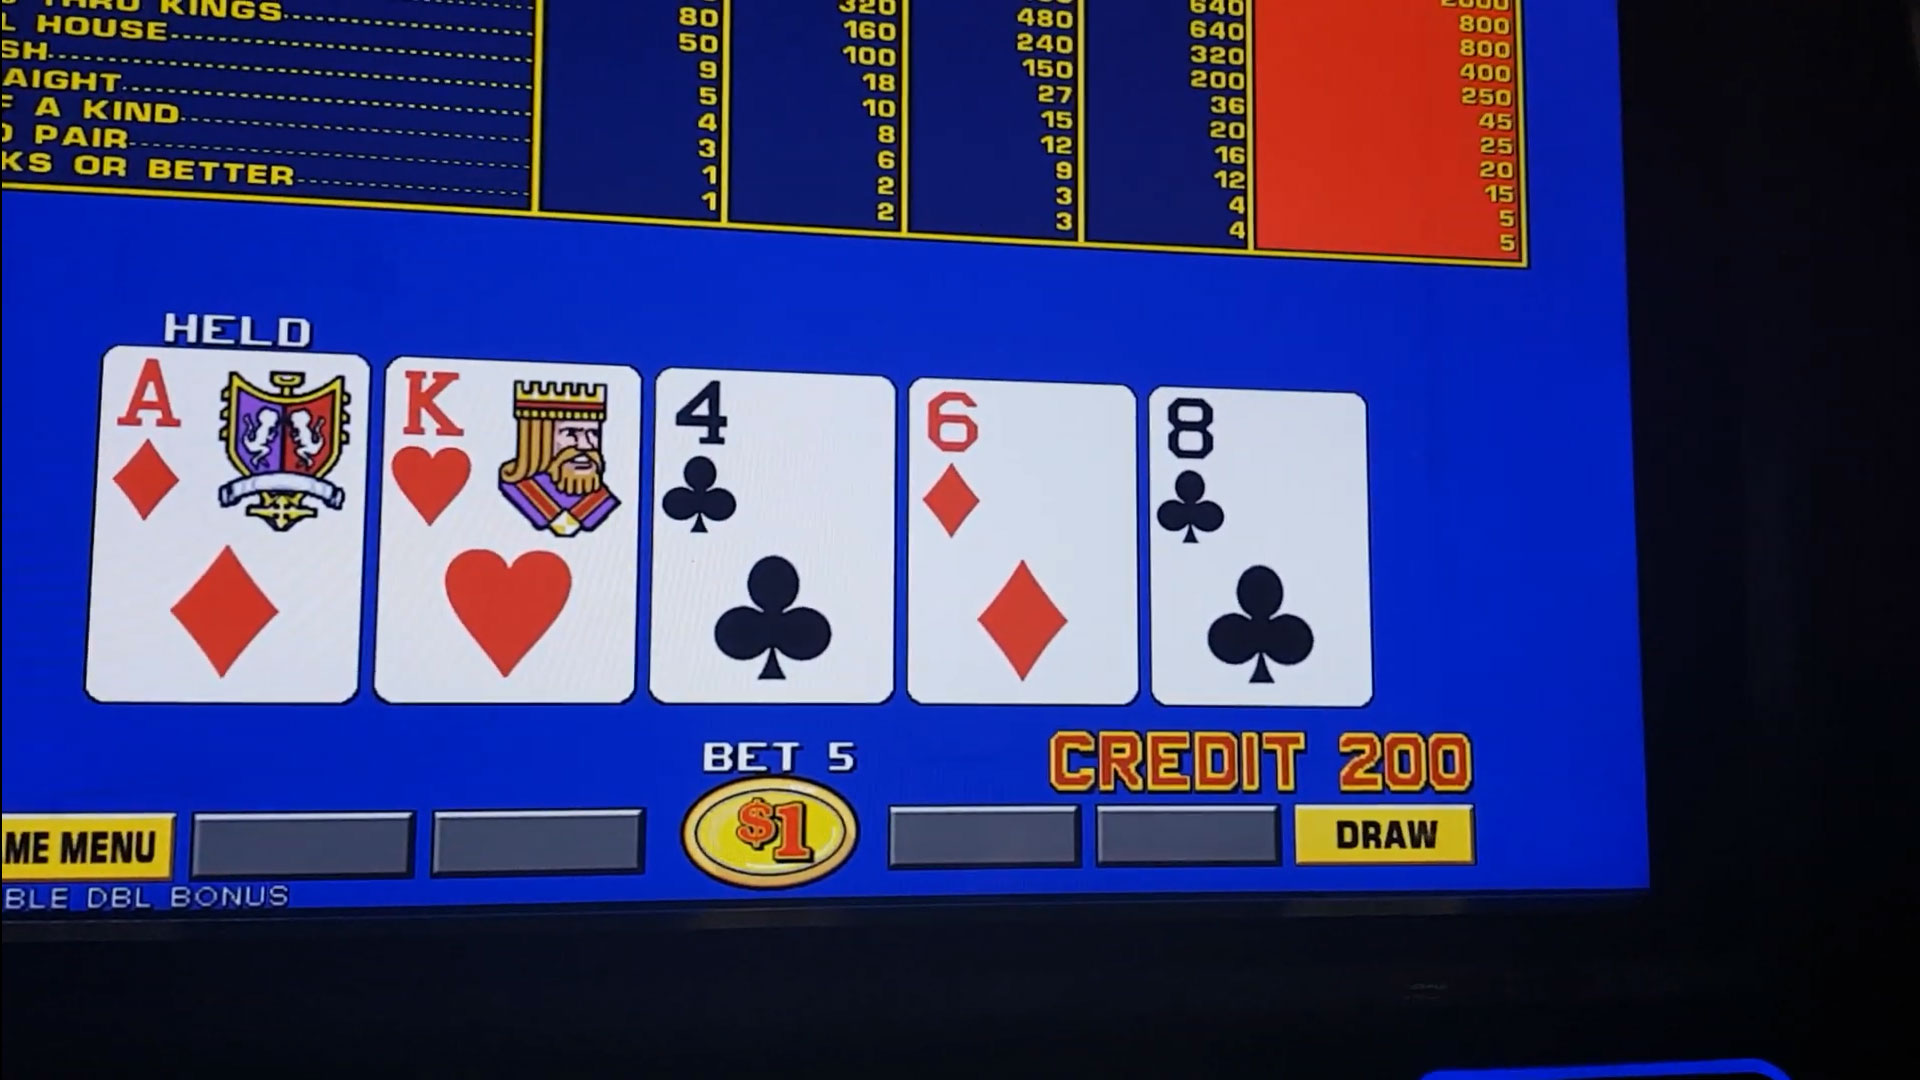C4: (662, 381, 889, 549)
C8: (1155, 396, 1362, 550)
D6: (915, 386, 1134, 543)
DA: (105, 360, 361, 529)
HK: (394, 367, 633, 535)
